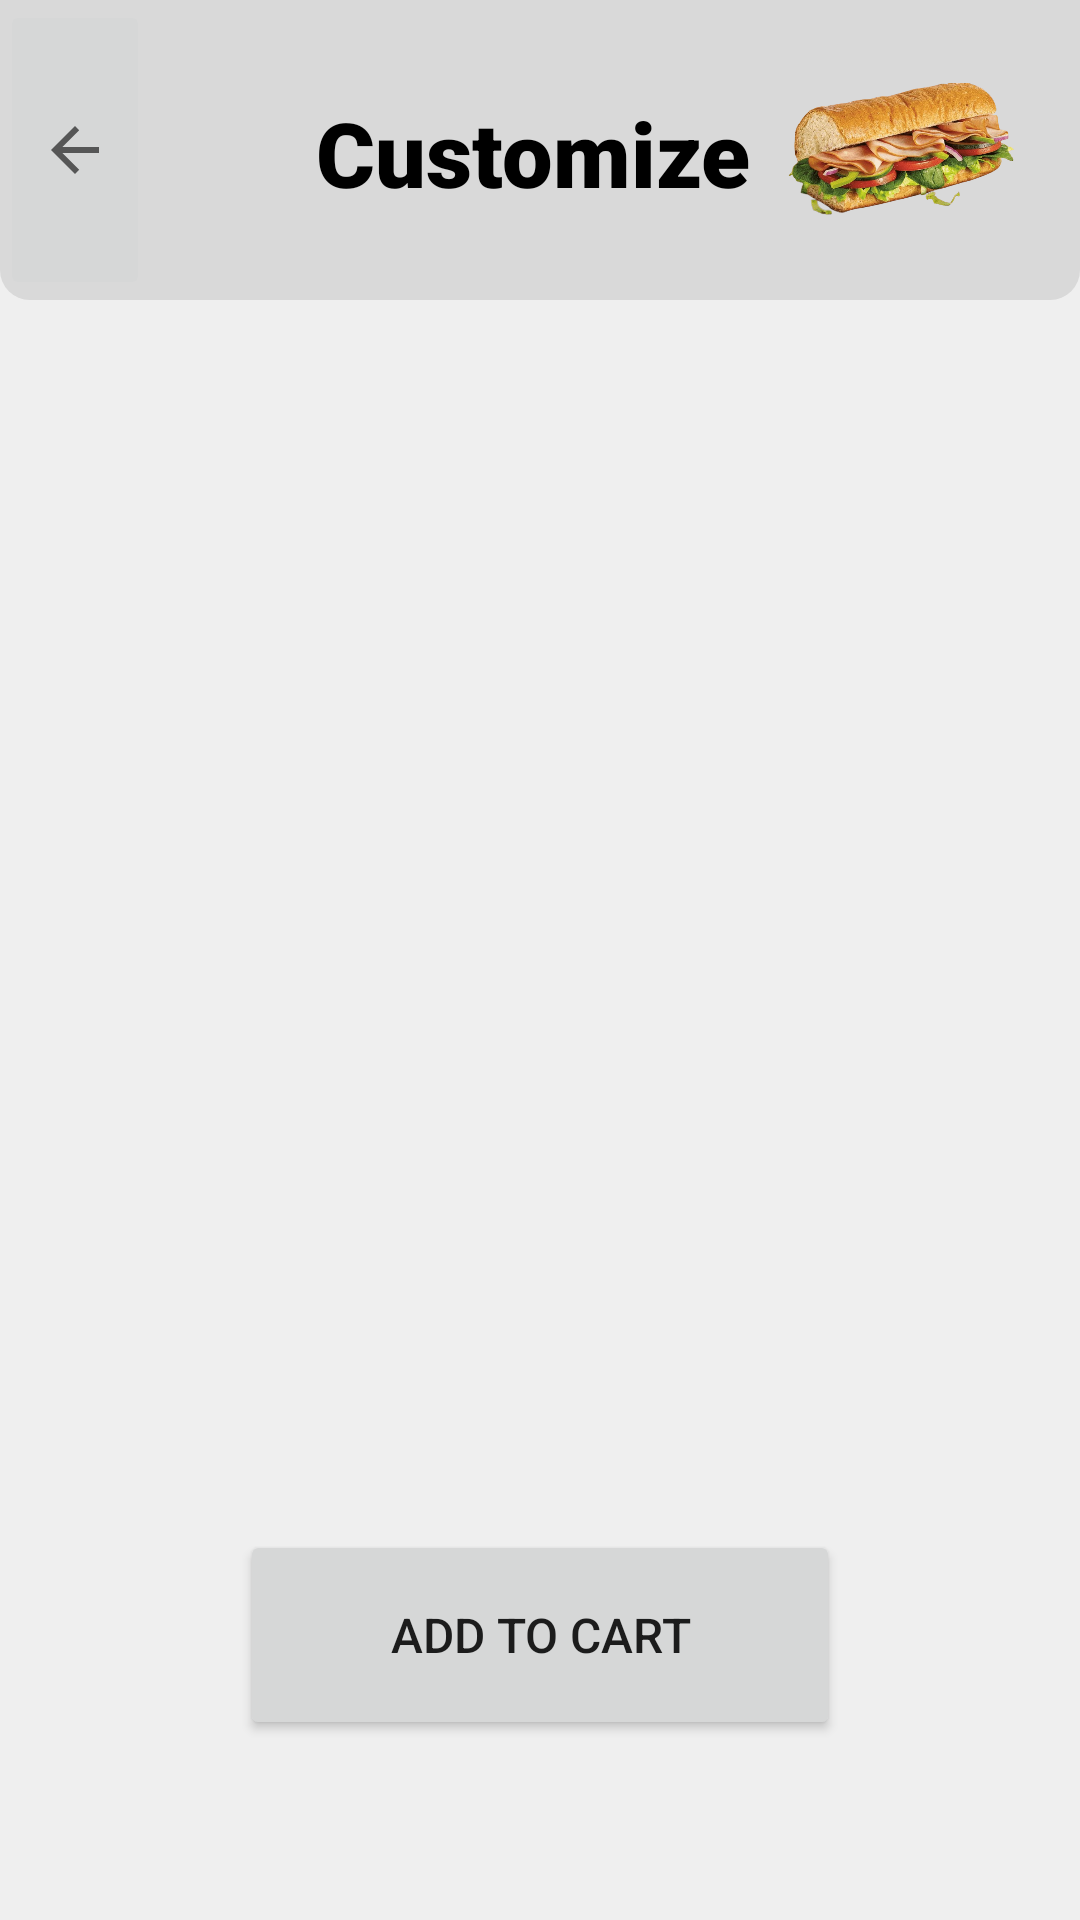

Screen size 1080px×1920px. Icon name, then its center in pixels as (x=x, y=y):
Back: (x=75, y=150)
